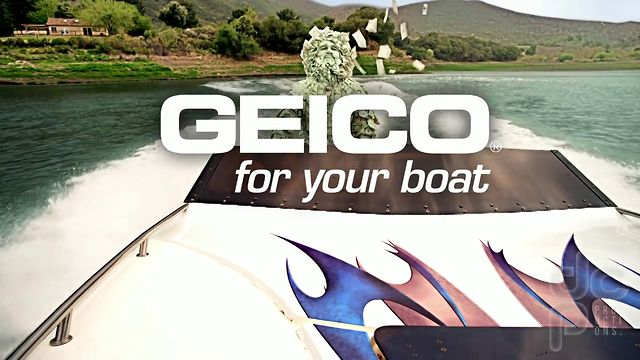Geico: (158, 90, 509, 156)
